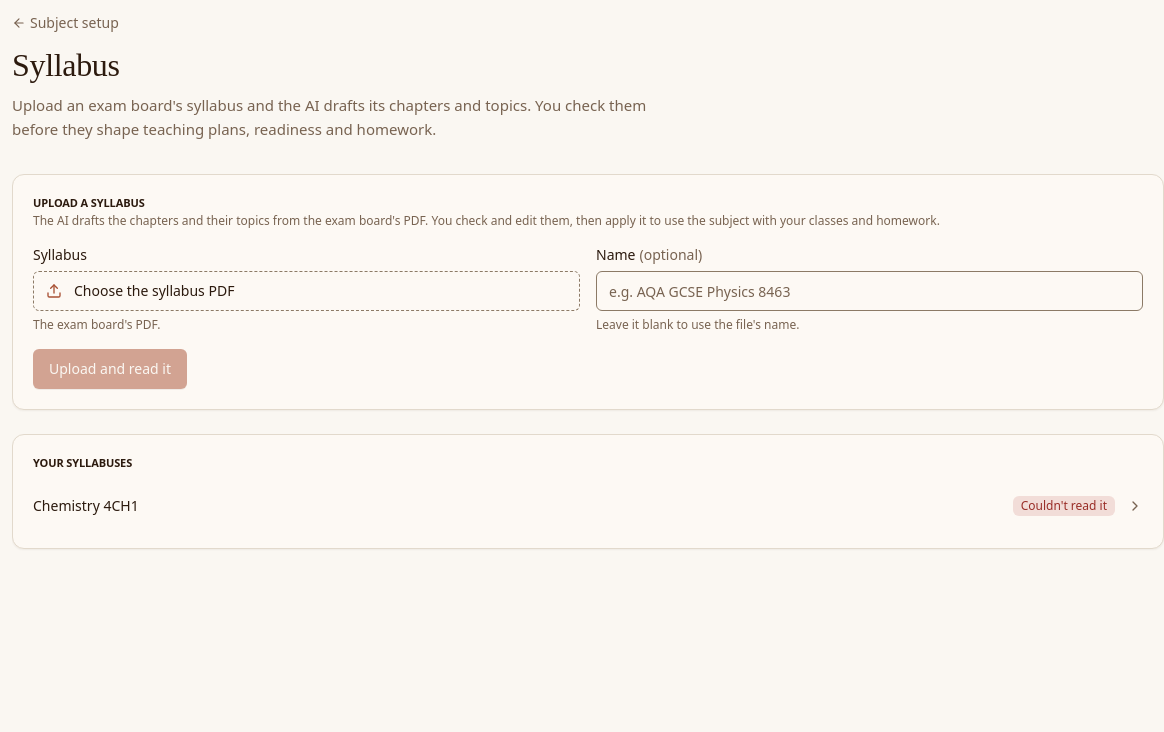
it: a failed extraction with no draft offers no Apply
Step 1. Click the text "Chemistry 4CH1" → (86, 505), box x1=33 y1=496 x2=139 y2=515
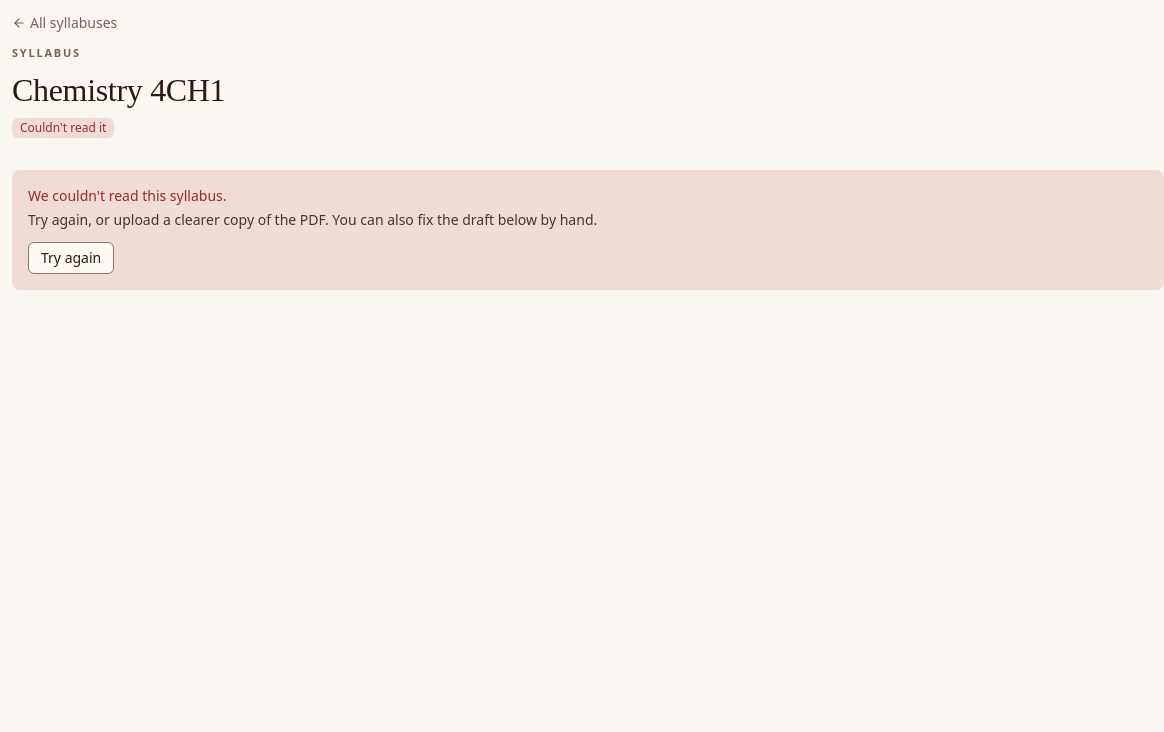
Expected: the text "We couldn't read this syllabus." is shown, x1=28 y1=186 x2=226 y2=204
Expected: the button "Try again" is shown, x1=28 y1=242 x2=114 y2=274
Expected: the text "Apply" is gone
